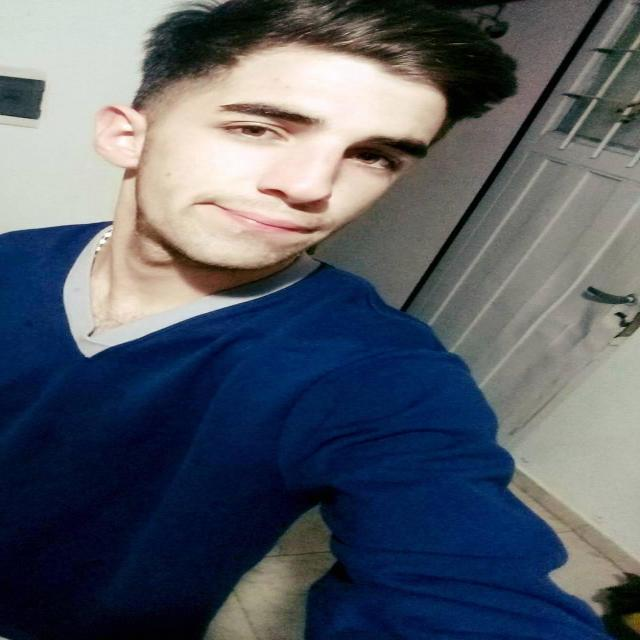earlobe: (94, 104, 147, 170)
